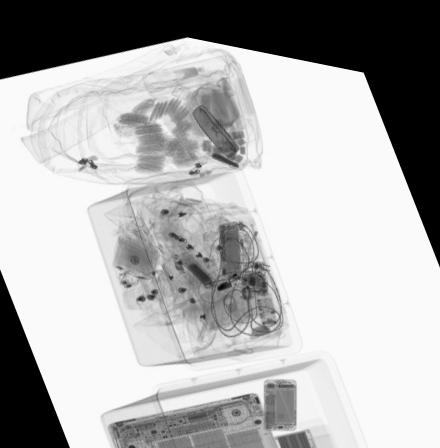Powerbank: (270, 414, 323, 448)
